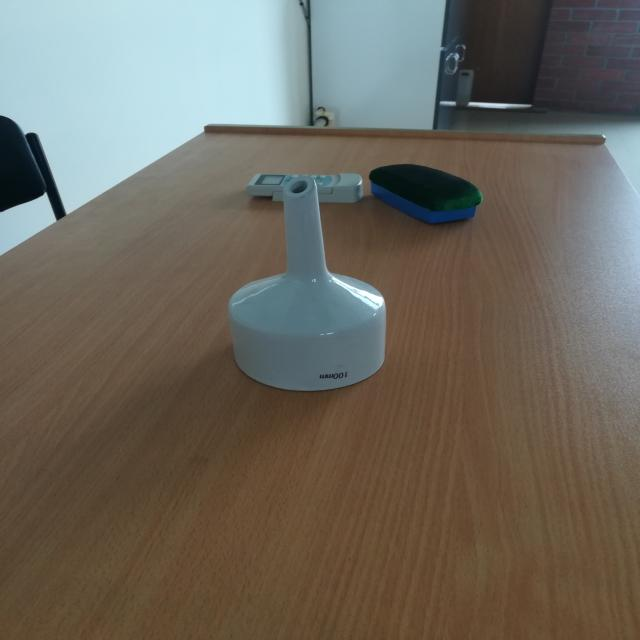Buchner_Funnel: (198, 171, 426, 417)
